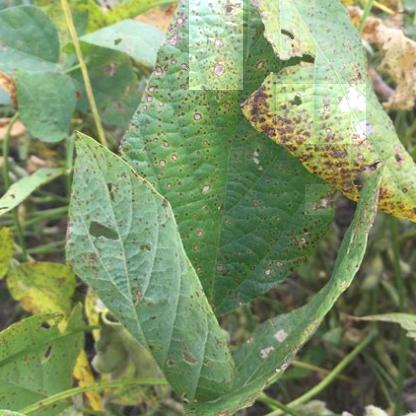black-spot: (144, 127, 234, 302), (276, 84, 366, 144), (190, 0, 244, 90), (305, 184, 331, 215)
